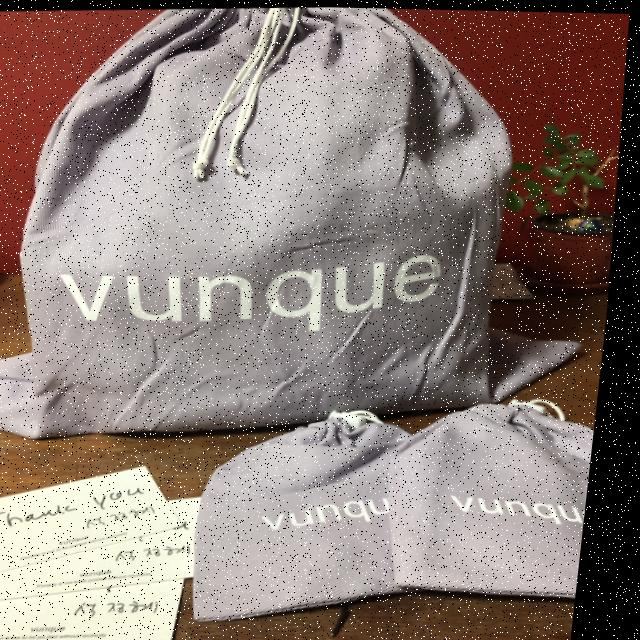backpack: (0, 0, 555, 425)
